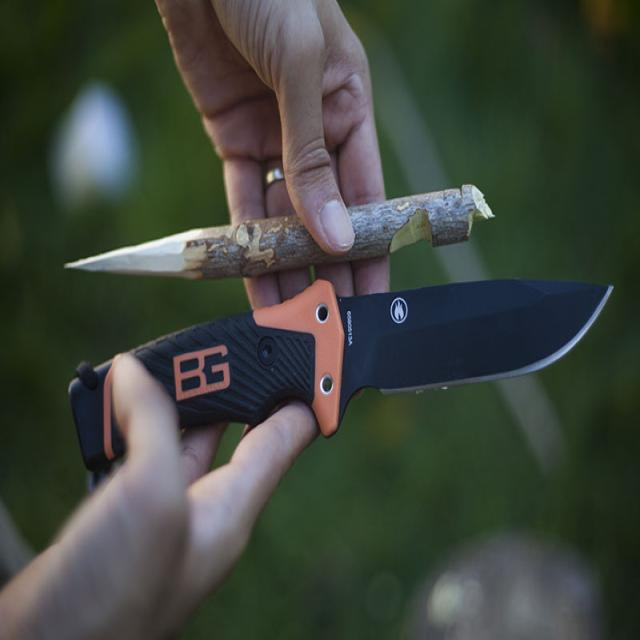knife: (74, 275, 620, 439)
